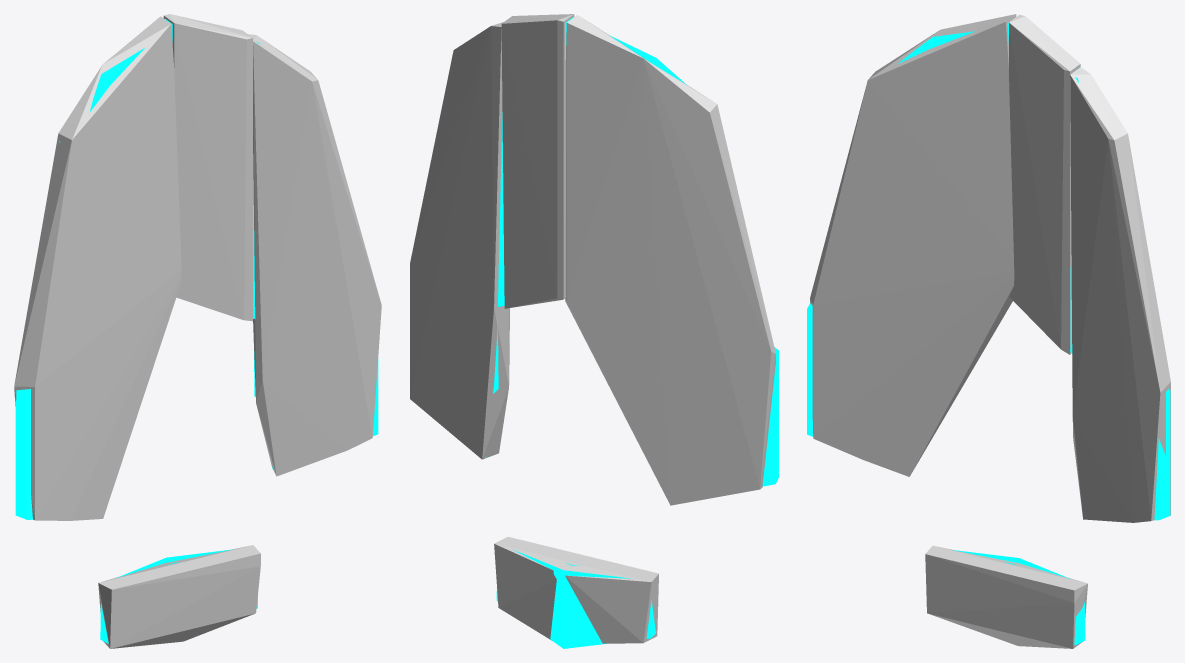
The model's file is SM_Wep_Shield_Extended_Energy_01.fbx.
The picture shows the model from 3 angles, left to right: view 1: azimuth 30°, elevation 25°; view 2: azimuth 150°, elevation 25°; view 3: azimuth 330°, elevation 25°; orthographic projection.
Visible parts, largest first — view 1: SM_Wep_Shield_Extended_Energy_01_ConvexHulls, SM_Wep_Shield_Extended_Energy_01_LOD0; view 2: SM_Wep_Shield_Extended_Energy_01_ConvexHulls, SM_Wep_Shield_Extended_Energy_01_LOD0; view 3: SM_Wep_Shield_Extended_Energy_01_ConvexHulls, SM_Wep_Shield_Extended_Energy_01_LOD0.
Boxes of the visible parts, x1,y1,x2,y2 form: SM_Wep_Shield_Extended_Energy_01_ConvexHulls: [14, 14, 381, 648]; SM_Wep_Shield_Extended_Energy_01_LOD0: [15, 19, 378, 643]; SM_Wep_Shield_Extended_Energy_01_ConvexHulls: [410, 14, 775, 643]; SM_Wep_Shield_Extended_Energy_01_LOD0: [485, 17, 778, 648]; SM_Wep_Shield_Extended_Energy_01_ConvexHulls: [810, 14, 1170, 648]; SM_Wep_Shield_Extended_Energy_01_LOD0: [807, 23, 1170, 645].
Size of the model in its own units: 12.75 by 68.7 by 113.
Materials: 1 (1 with a texture image).
